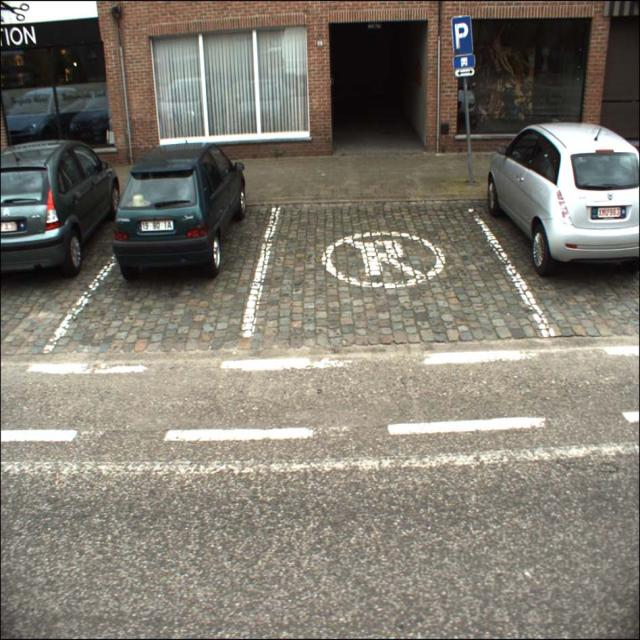park: (451, 16, 473, 56)
